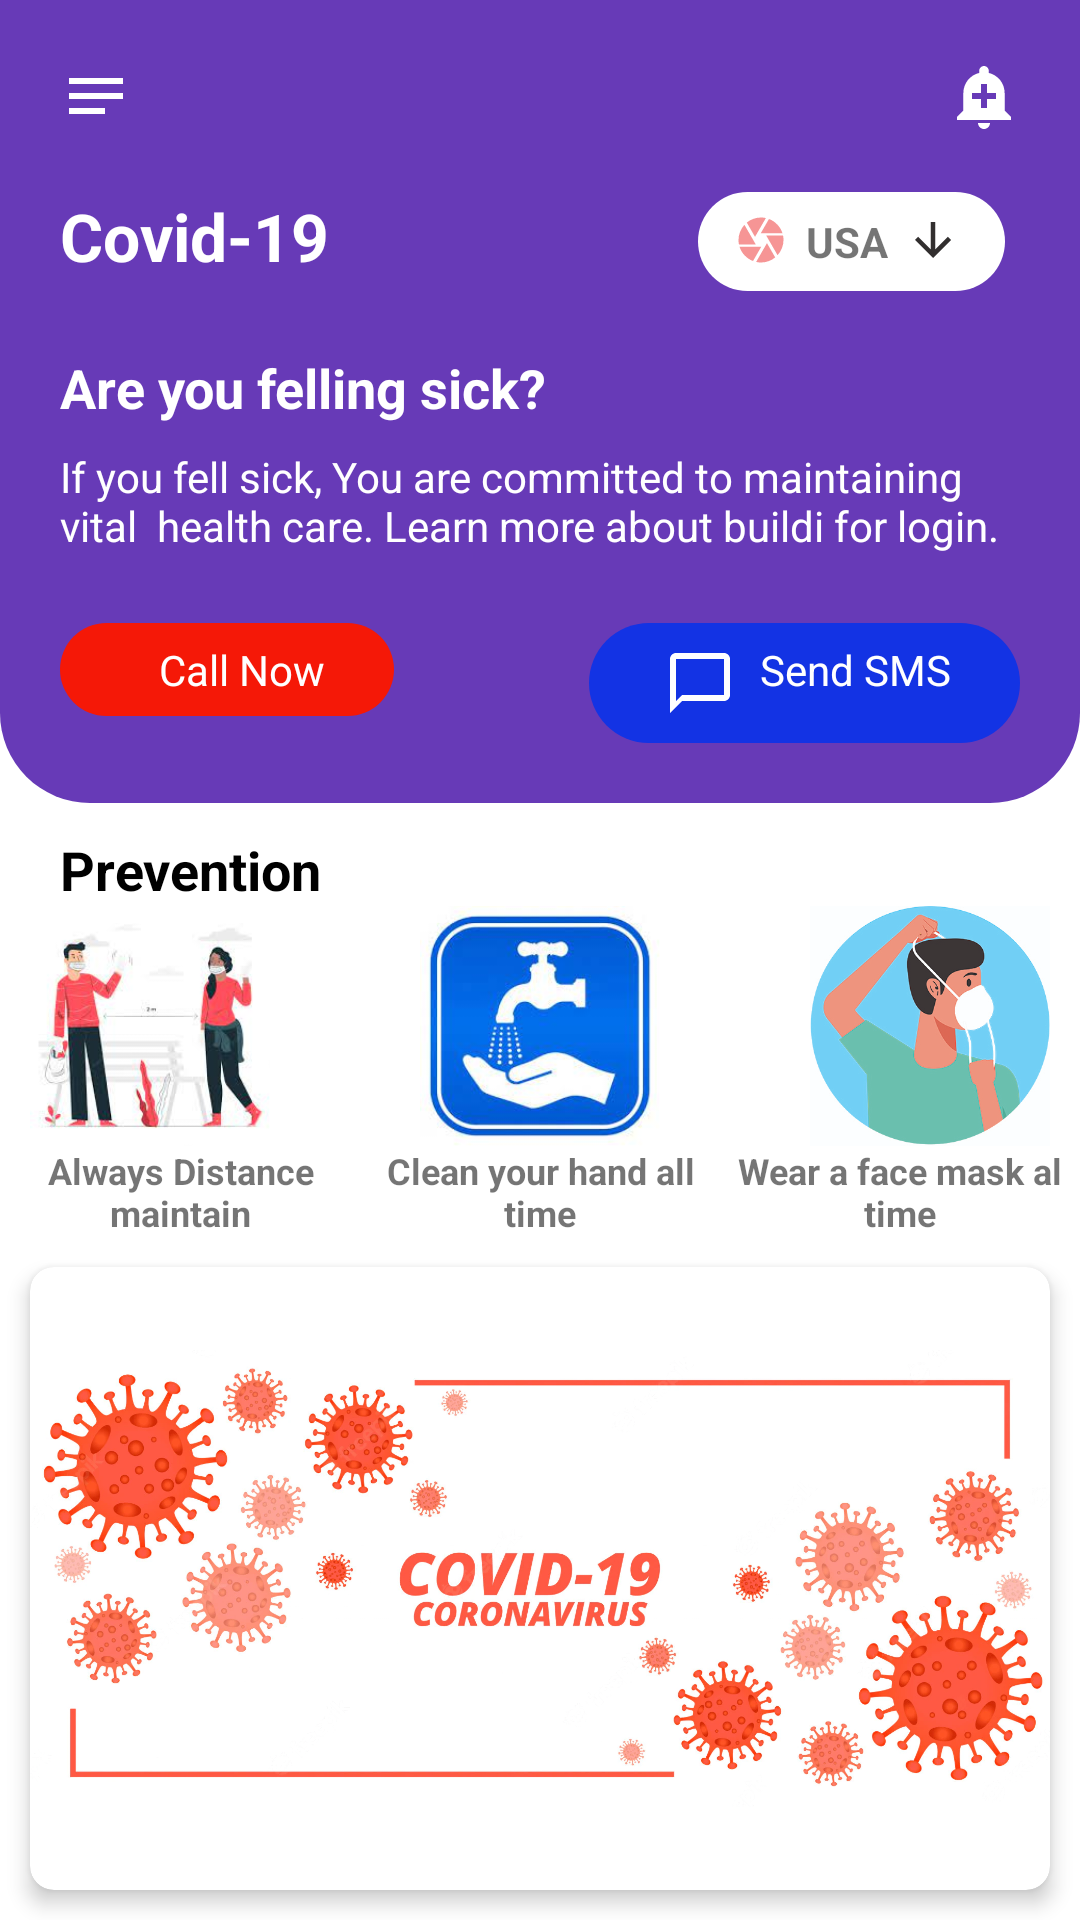

Locate icon controls on the screen. Image size 1080×1920, boxes as (x1, y1, x2, y2).
add alert: (957, 66, 1011, 129)
camera: (738, 217, 784, 263)
chat: (670, 653, 730, 713)
downward: (915, 222, 951, 258)
notes: (69, 78, 123, 114)
wash: (429, 915, 651, 1136)
